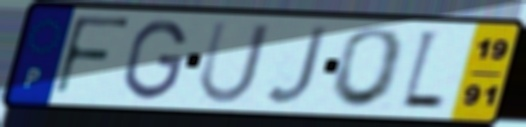F: (51, 13, 135, 100)
G: (121, 17, 190, 102)
J: (263, 24, 332, 108)
L: (397, 26, 449, 114)
O: (326, 26, 410, 111)
U: (194, 18, 273, 106)
